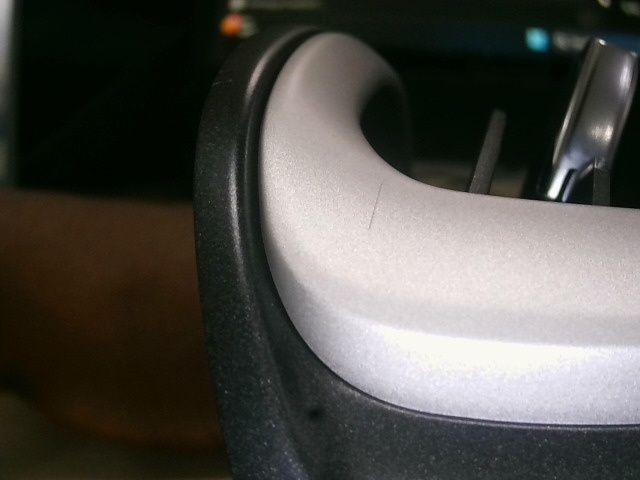NG: (365, 177, 392, 244), (208, 67, 236, 107)
